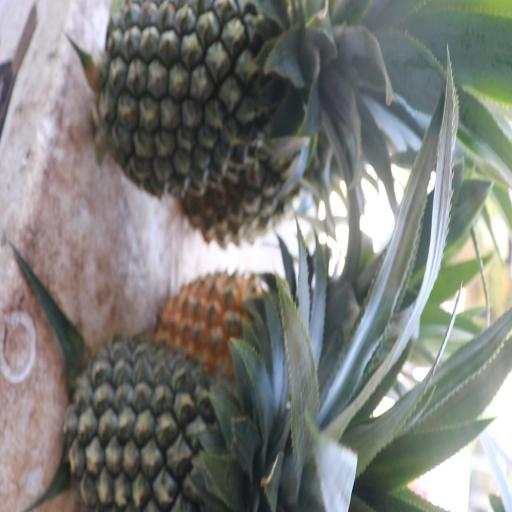Pineapple - v8 v1: (166, 261, 293, 388)
